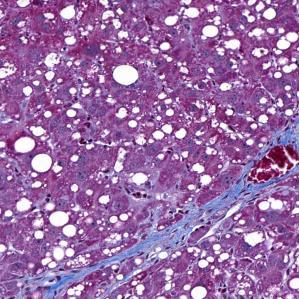fibrosis: (146, 188, 248, 246)
